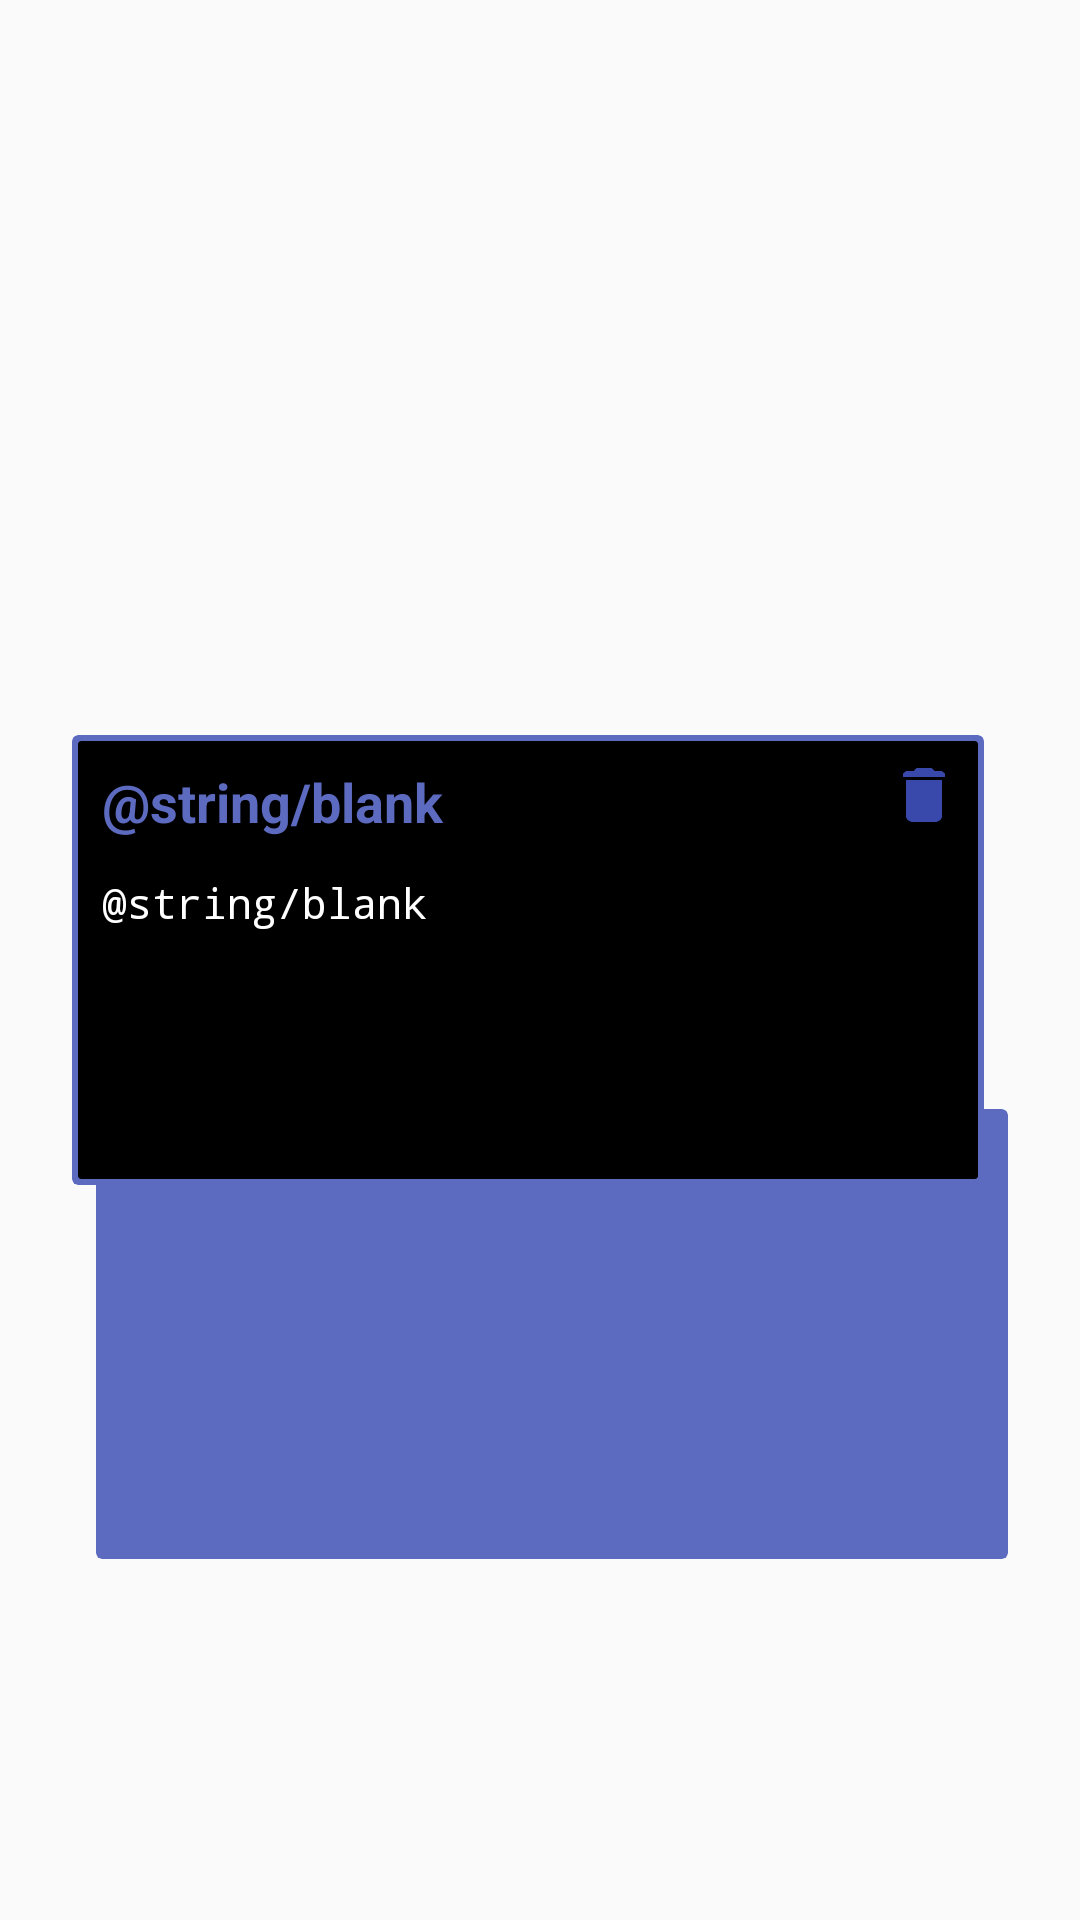

Icon bounding boxes for this 1080x1920 phone screenshot, format (x1, y1, x2, y2):
delete: (903, 768, 945, 822)
